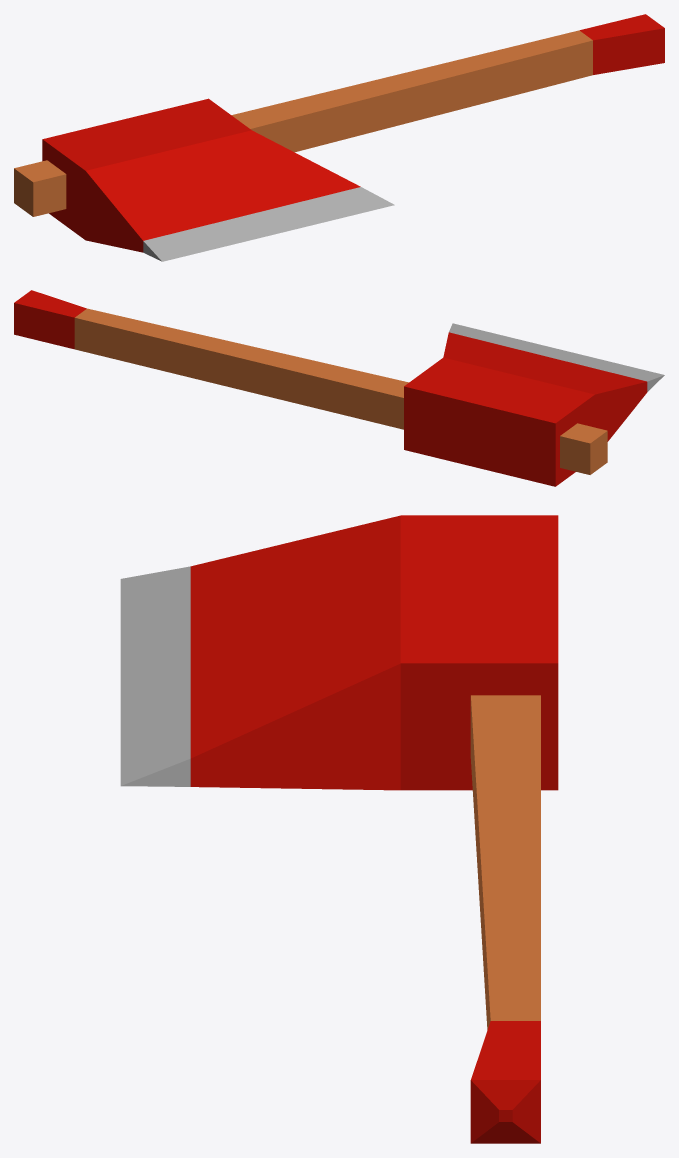
File: Hacha.fbx
The picture shows the model from 3 angles, top to bottom: view 1: azimuth 30°, elevation 25°; view 2: azimuth 150°, elevation 25°; view 3: azimuth 270°, elevation 25°; orthographic projection. The views are drawn at different scales.
Visible parts, largest first — view 1: Cube; view 2: Cube; view 3: Cube.
Boxes of the visible parts, x1,y1,x2,y2 form: Cube: (14, 14, 664, 261); Cube: (14, 290, 664, 486); Cube: (120, 515, 558, 1143).
Size of the model in its own units: 459 by 48 by 150.
